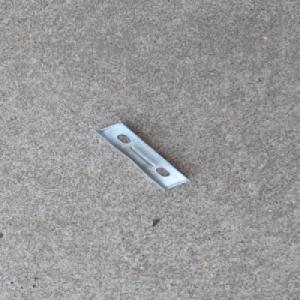ClampPart: (91, 119, 191, 192)
